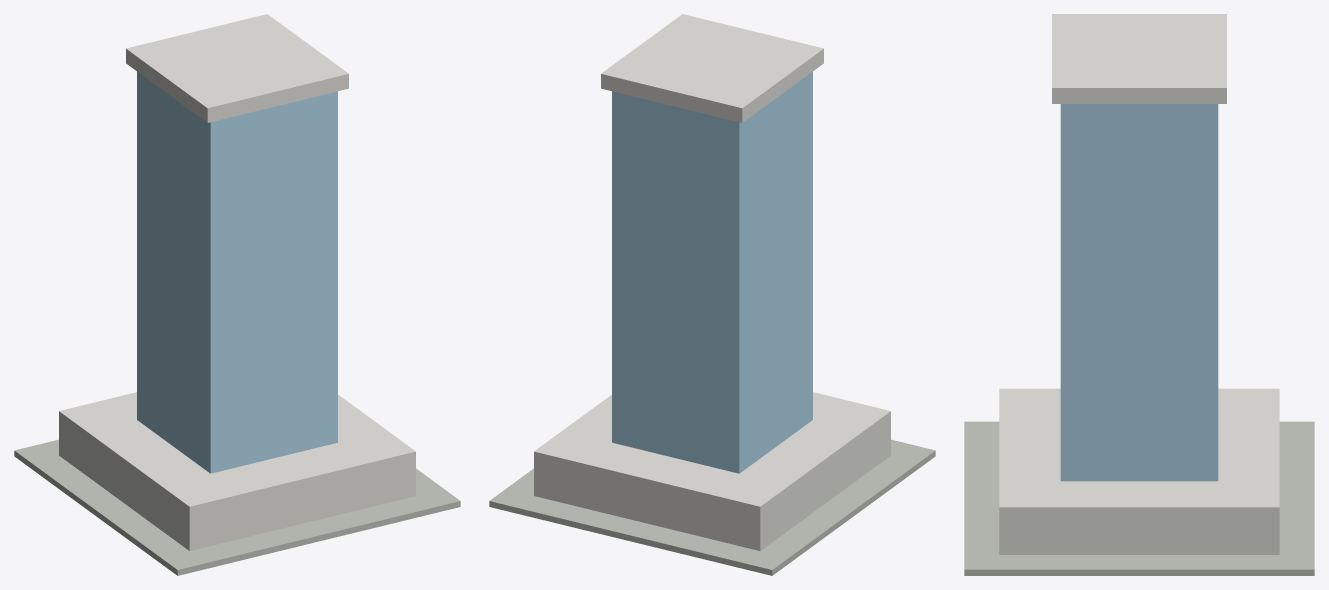
Rendered from glass_tower.glb.
3 views of the same model, side by side, from view 1: azimuth 30°, elevation 25°; view 2: azimuth 150°, elevation 25°; view 3: azimuth 270°, elevation 25° (orthographic). The views are drawn at different scales.
Bounding box in the file's own units: 1 × 1.42 × 1.
